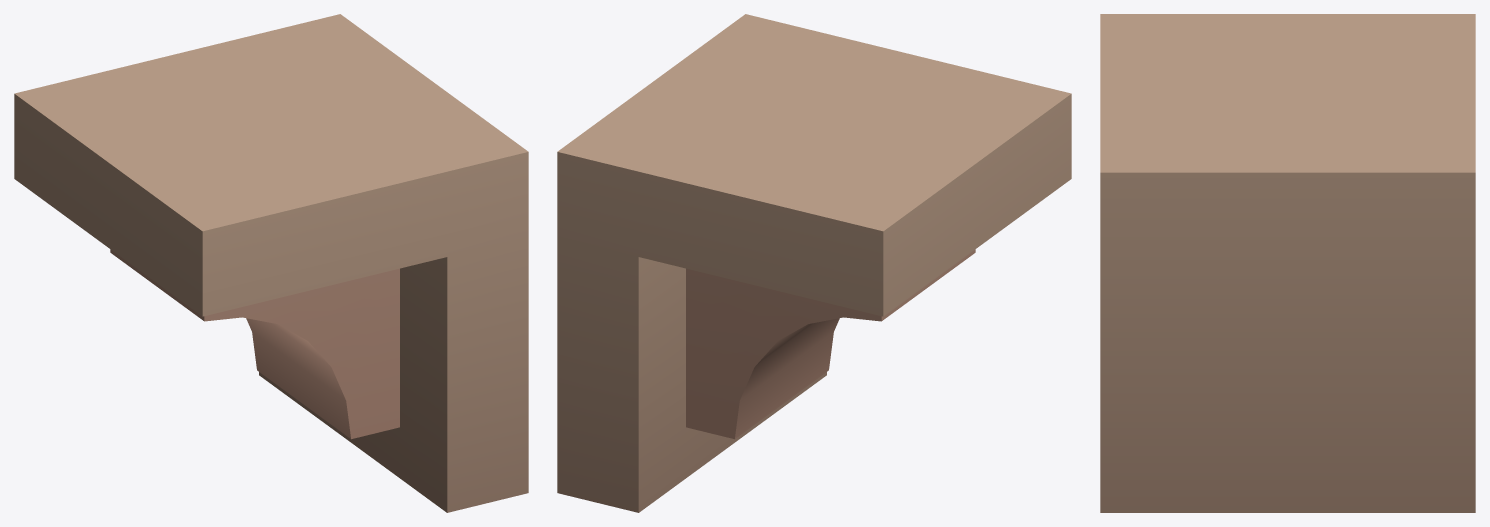
File: corners-corner-detailed-c.glb
The picture shows the model from 3 angles, left to right: view 1: azimuth 30°, elevation 25°; view 2: azimuth 150°, elevation 25°; view 3: azimuth 270°, elevation 25°; orthographic projection.
Parts seen in each view (by area): view 1: corners-corner-detailed-c; view 2: corners-corner-detailed-c; view 3: corners-corner-detailed-c.
Boxes of the visible parts, x1,y1,x2,y2 form: corners-corner-detailed-c: (14,14,528,512); corners-corner-detailed-c: (557,14,1071,512); corners-corner-detailed-c: (1100,14,1475,512).
Bounding box in the file's own units: 0.2 × 0.2 × 0.2.
